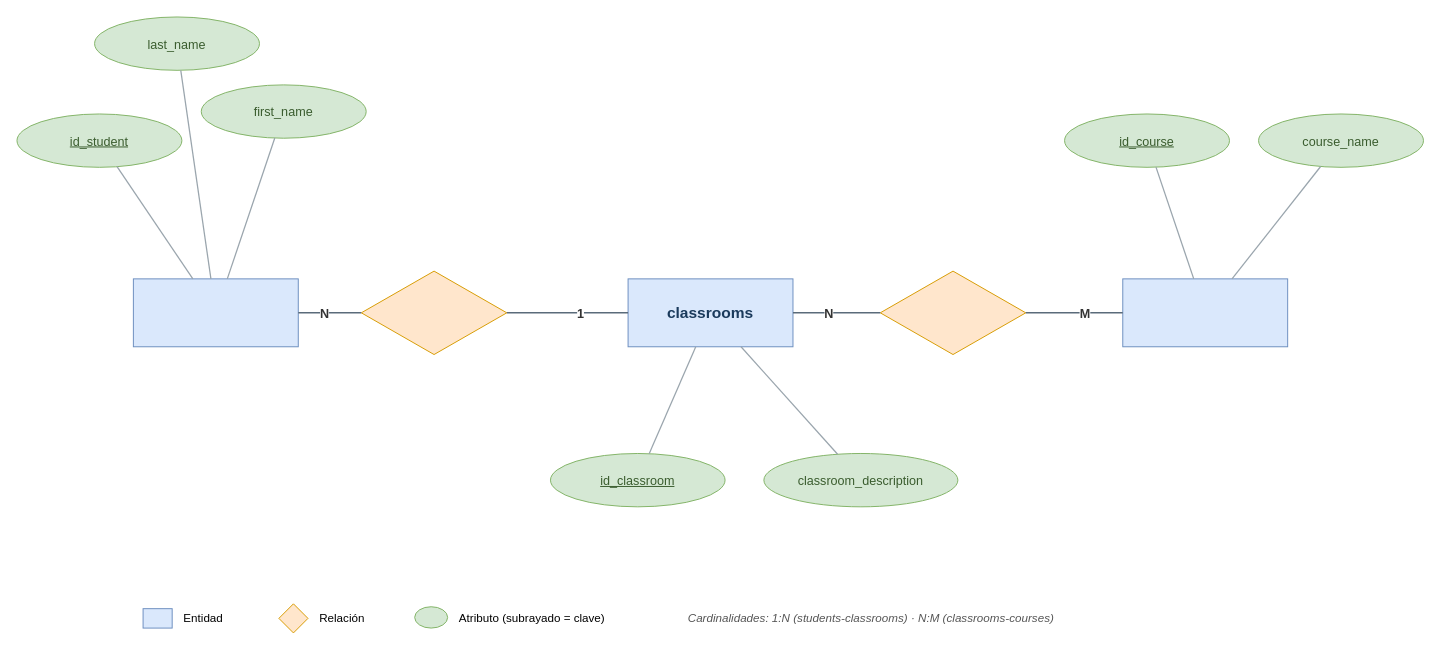
The diagram is 1440 pixels wide and 650 high, and some of its shapes have lost their labels. The centre of each missing label's shape, as x and y in pixels:
"belongs_to" belongs at pixel 433 312.
"courses" belongs at pixel 1205 312.
"offers" belongs at pixel 952 312.
"students" belongs at pixel 215 312.
